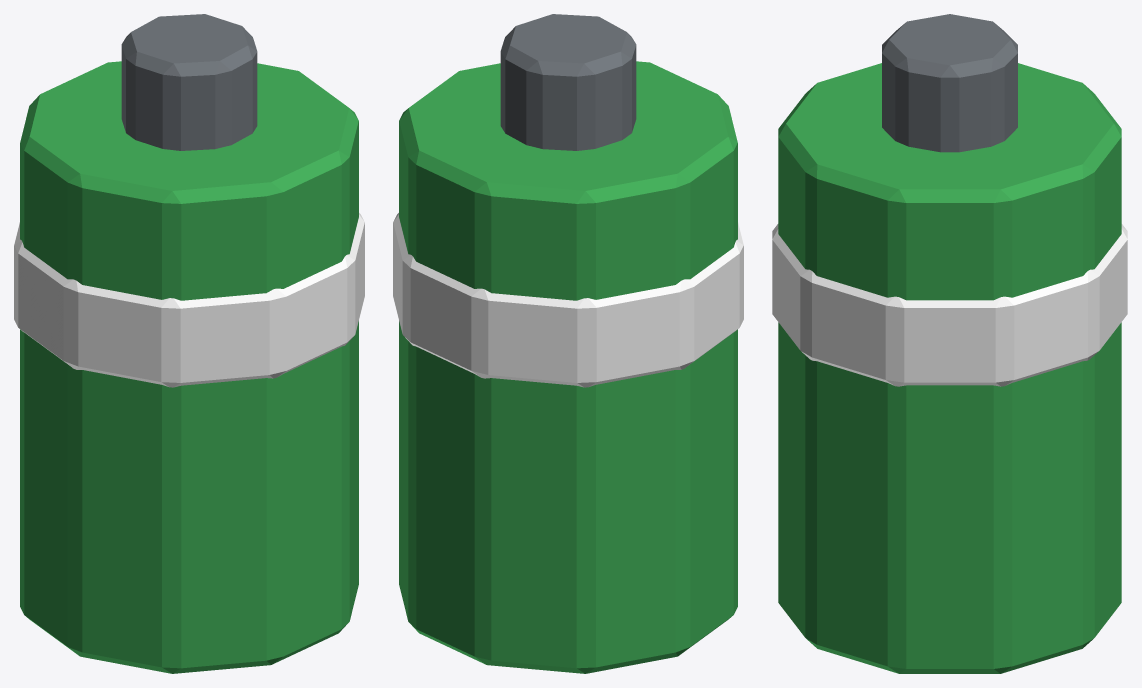
The model's file is battery.glb.
3 views of the same model, side by side, from view 1: azimuth 30°, elevation 25°; view 2: azimuth 150°, elevation 25°; view 3: azimuth 270°, elevation 25° (orthographic).
Parts seen in each view (by area): view 1: battery; view 2: battery; view 3: battery.
Part boxes in pixels (x1,y1,x2,y2): battery: (14,14,364,673); battery: (393,14,743,673); battery: (772,14,1127,673).
Bounding box in the file's own units: 0.1674 × 0.305 × 0.1729.
